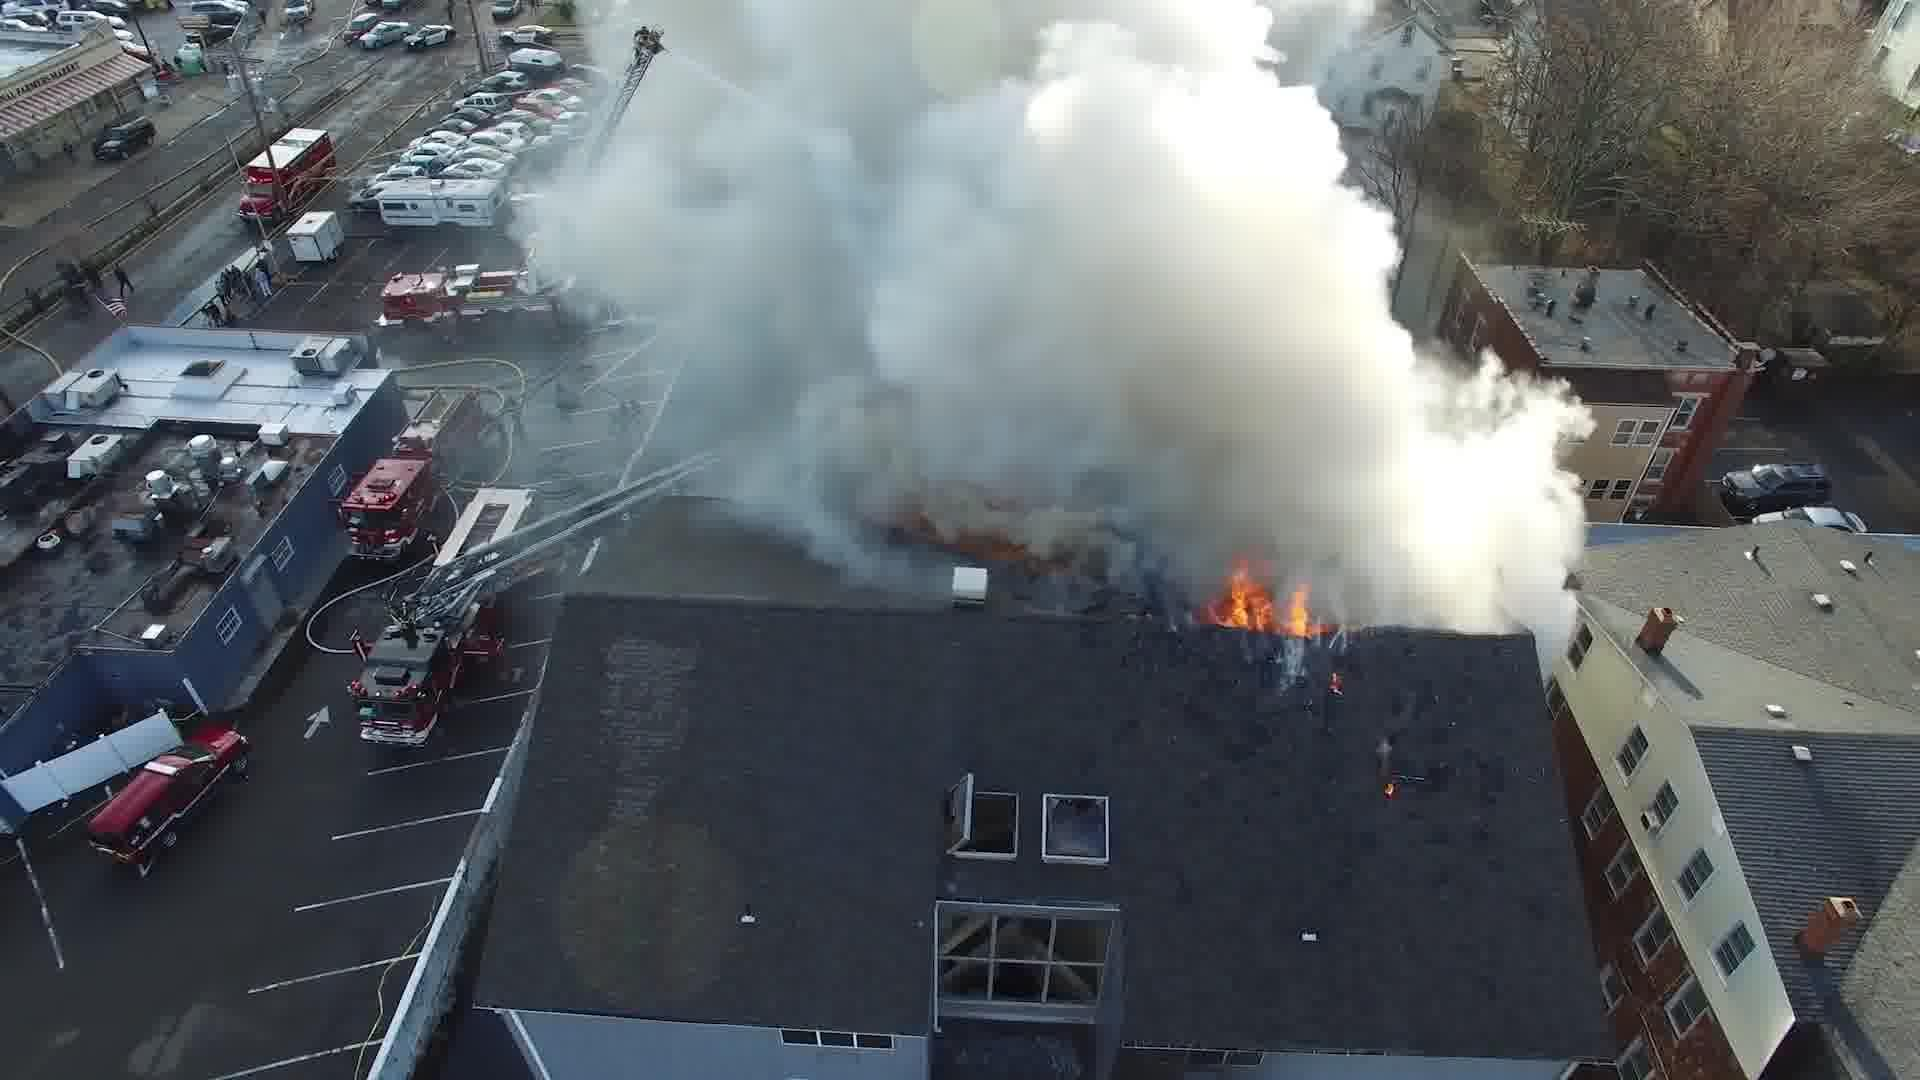smoke: (539, 0, 1443, 611)
